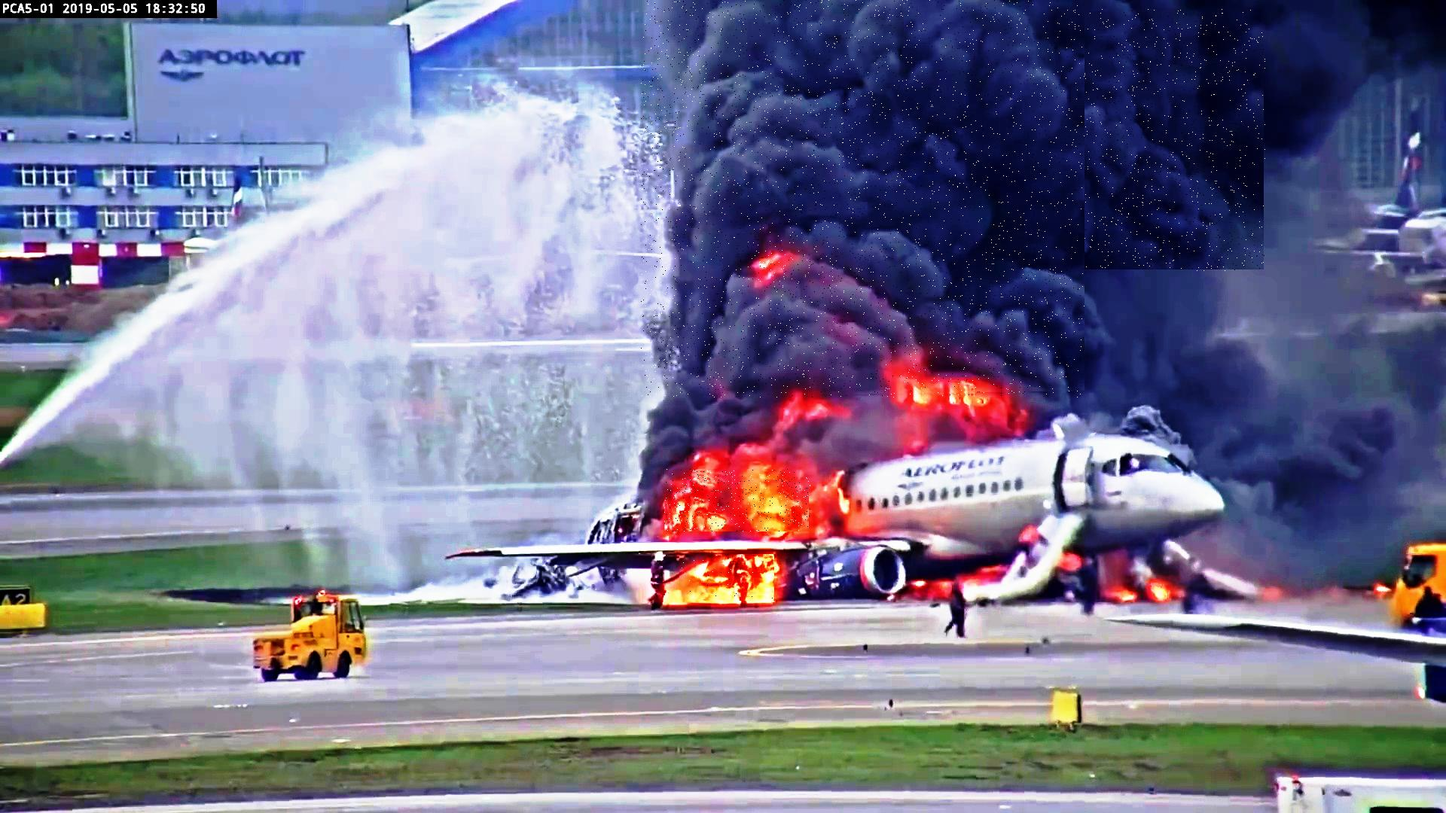fire: (665, 469, 811, 532), (680, 554, 776, 601)
smoke: (641, 0, 1085, 397), (663, 10, 1266, 272)
